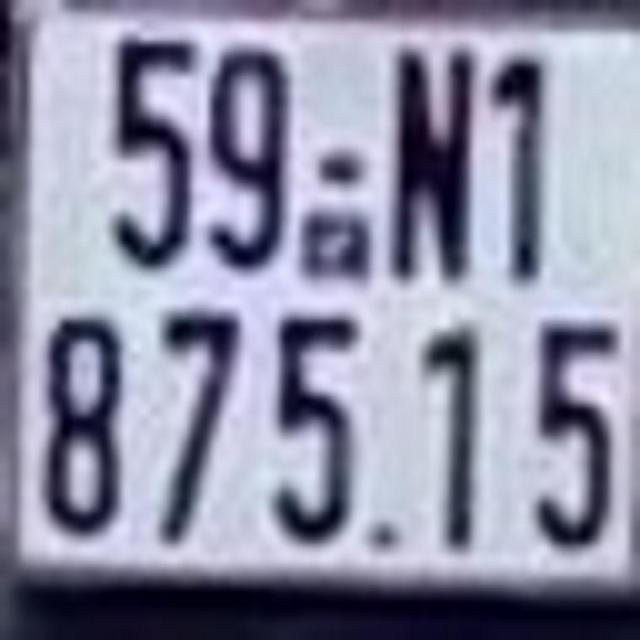1: (488, 36, 561, 287), (417, 316, 487, 551)
5: (533, 314, 619, 551), (112, 33, 196, 266), (270, 302, 352, 540)
7: (159, 297, 241, 546)
8: (40, 315, 124, 535)
9: (204, 33, 290, 274)
N: (388, 39, 478, 284)
